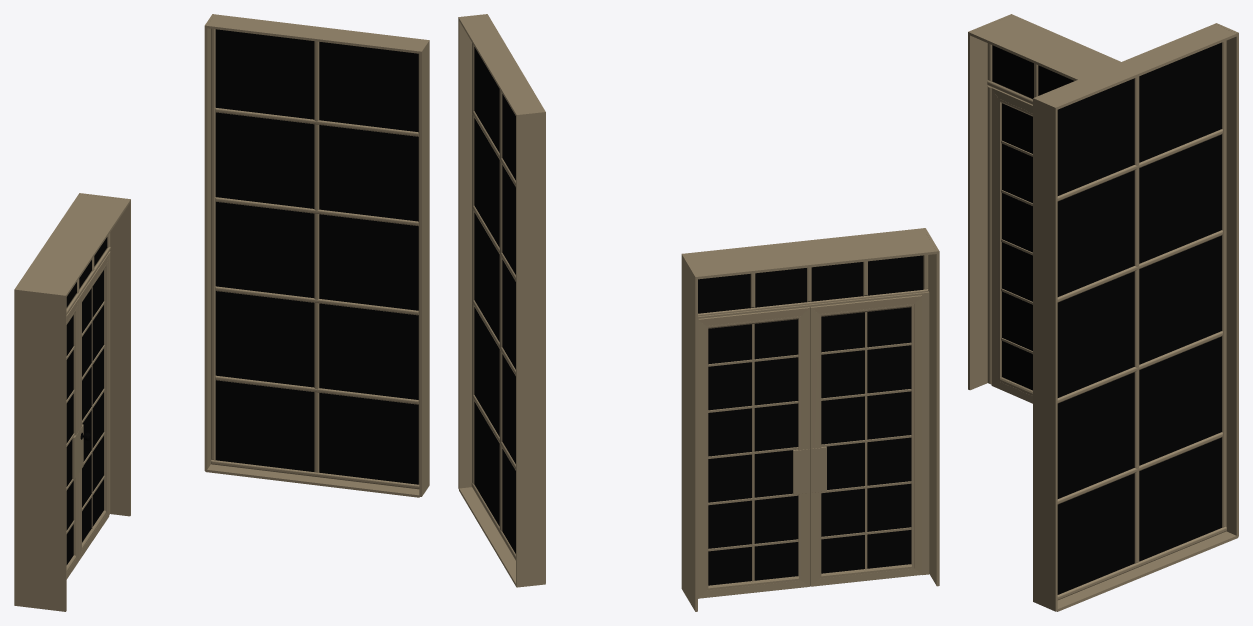
Rendered from window.FBX.
3 views of the same model, side by side, from view 1: azimuth 30°, elevation 25°; view 2: azimuth 150°, elevation 25°; view 3: azimuth 270°, elevation 25° (orthographic). The views are drawn at different scales.
Visible parts, largest first — view 1: Box02, Box04, Box2635, Box2631, Box2632, Box2637, Box2643, Box2624, Box2638, Box2636, Box2642, Box01 (+2 smaller); view 2: Box01, Box2643, Box02, Box2636, Box2624, Box2623, Box2644, Box2632, Box2637, Box2631, Box2630, Box2635 (+5 smaller); view 3: Box02, Box2637, Box2635, Box01, Box04, Box2636, Box2623, Box2632, Box2638, Box2630, Box2642, Box2644.
Boxes of the visible parts, <box> form: Box02: <box>215,29,418,484</box>; Box04: <box>14,288,66,611</box>; Box2635: <box>211,28,419,489</box>; Box2631: <box>79,193,130,516</box>; Box2632: <box>15,194,130,297</box>; Box2637: <box>419,40,429,496</box>; Box2643: <box>82,270,103,542</box>; Box2624: <box>79,253,109,560</box>; Box2638: <box>207,14,426,53</box>; Box2636: <box>204,14,214,470</box>; Box2642: <box>205,464,419,497</box>; Box01: <box>66,315,73,564</box>; Box01: <box>821,307,911,573</box>; Box2643: <box>708,319,798,585</box>; Box02: <box>474,47,515,553</box>; Box2636: <box>516,111,545,586</box>; Box2624: <box>698,307,809,598</box>; Box2623: <box>810,295,921,586</box>; Box2644: <box>698,255,923,313</box>; Box2632: <box>684,228,936,279</box>; Box2637: <box>458,14,487,488</box>; Box2631: <box>681,253,697,611</box>; Box2630: <box>698,255,929,598</box>; Box2635: <box>471,43,515,560</box>; Box02: <box>1057,42,1221,594</box>; Box2637: <box>1033,97,1057,611</box>; Box2635: <box>1057,40,1226,599</box>; Box01: <box>1002,103,1032,390</box>; Box04: <box>968,14,1012,390</box>; Box2636: <box>1215,23,1238,536</box>; Box2623: <box>991,87,1032,403</box>; Box2632: <box>968,15,1120,80</box>; Box2638: <box>1035,24,1238,109</box>; Box2630: <box>987,43,1038,384</box>; Box2642: <box>1056,531,1238,611</box>; Box2644: <box>992,45,1074,98</box>.
Size of the model in its own units: 1999 by 1962 by 954.
